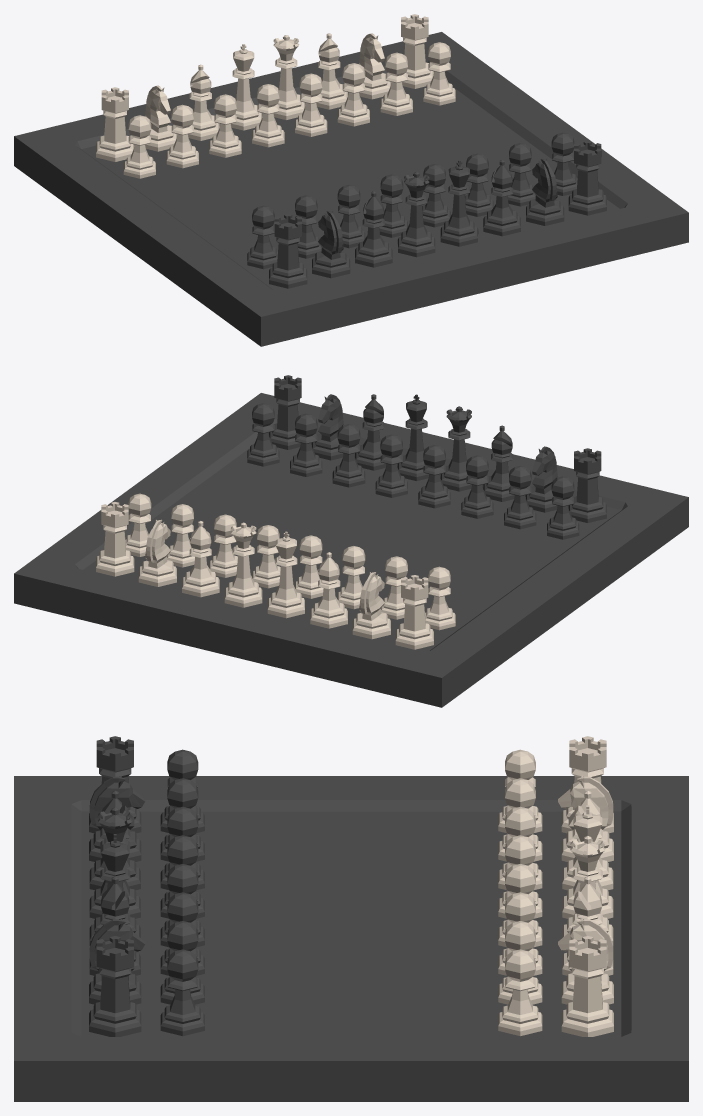
The picture shows the model from 3 angles, top to bottom: view 1: azimuth 30°, elevation 25°; view 2: azimuth 150°, elevation 25°; view 3: azimuth 270°, elevation 25°; orthographic projection. The views are drawn at different scales.
Visible parts, largest first — view 1: entity_2; view 2: entity_2; view 3: entity_2.
Boxes of the visible parts, x1,y1,x2,y2 form: entity_2: [14, 14, 688, 346]; entity_2: [14, 375, 688, 707]; entity_2: [14, 736, 688, 1101].
Size of the model in its own units: 15.42 by 3.5 by 15.42.
